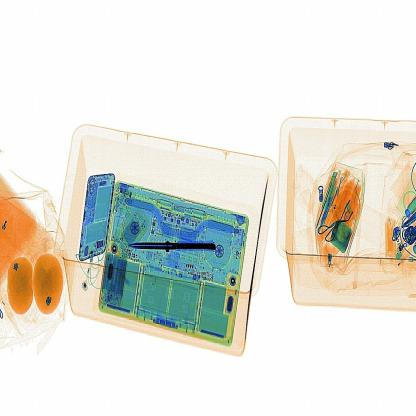gun: (119, 228, 221, 260)
